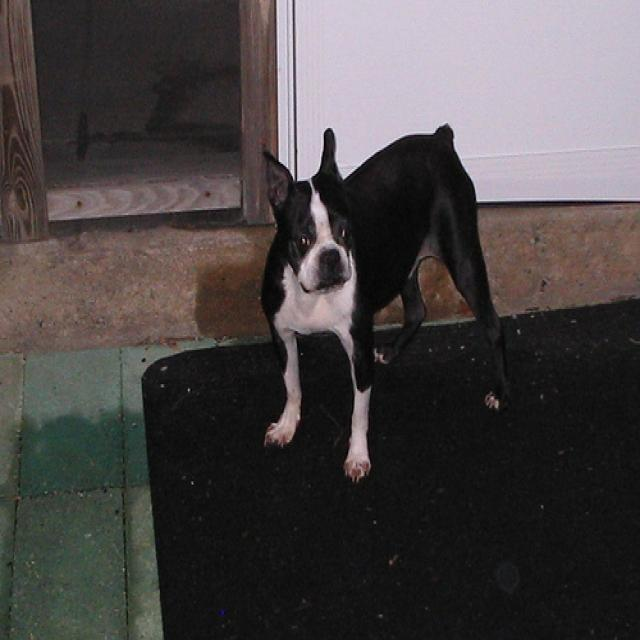dog: (257, 122, 514, 486)
